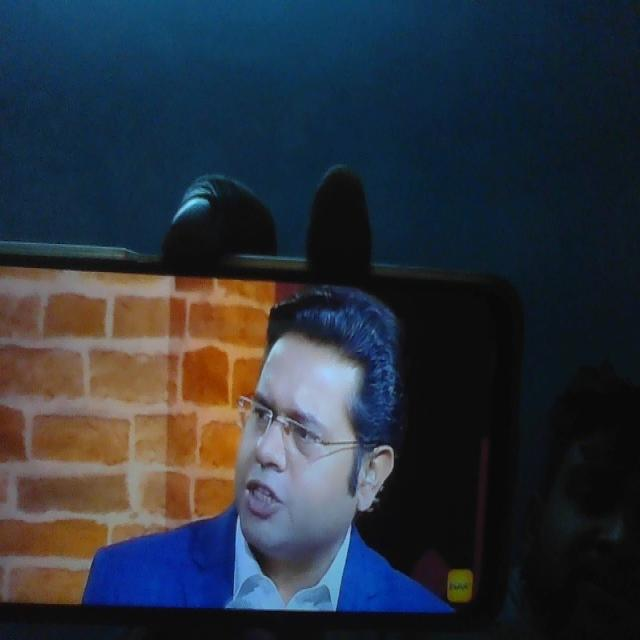fake: (234, 293, 375, 560)
